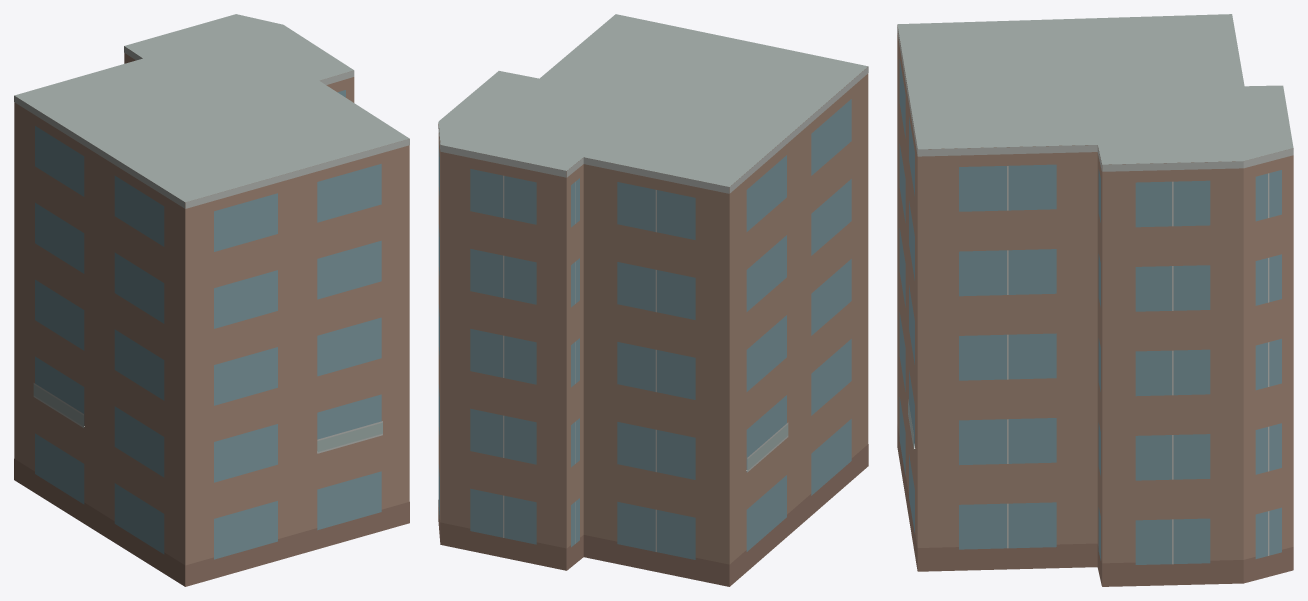
The model's file is survey-upis-32526644.glb.
3 views of the same model, side by side, from view 1: azimuth 30°, elevation 25°; view 2: azimuth 150°, elevation 25°; view 3: azimuth 270°, elevation 25° (orthographic). The views are drawn at different scales.
Parts seen in each view (by area): view 1: survey-upis-32526644.tmp; view 2: survey-upis-32526644.tmp; view 3: survey-upis-32526644.tmp.
Boxes of the visible parts, left/top/right/bottom form: survey-upis-32526644.tmp: left=14, top=14, right=409, bottom=586; survey-upis-32526644.tmp: left=438, top=14, right=868, bottom=586; survey-upis-32526644.tmp: left=897, top=14, right=1293, bottom=586.
Bounding box in the file's own units: 10.95 × 14.3 × 12.17.
